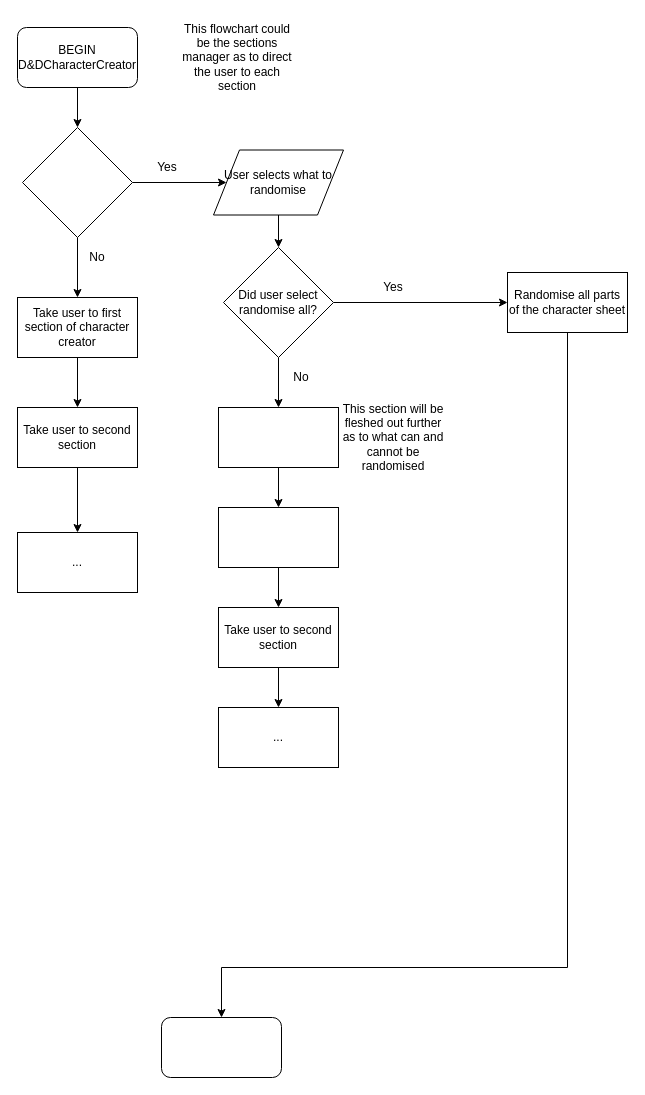
This 645x1095 diagram has some shape labels left out. Each missing label, with the centre of its shape:
Did user select Randomise?: point (77, 182)
END D&DCharacterCreator: point (221, 1047)
Randomise selected sections: point (278, 437)
Take user to first section that are not randomised: point (278, 537)
